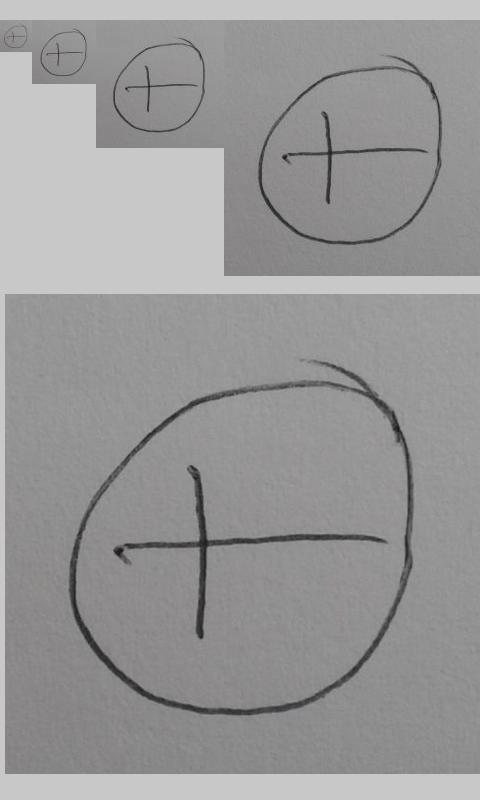button: (66, 359, 418, 719), (258, 54, 443, 246), (112, 40, 207, 133), (40, 28, 87, 77), (3, 24, 28, 49)
